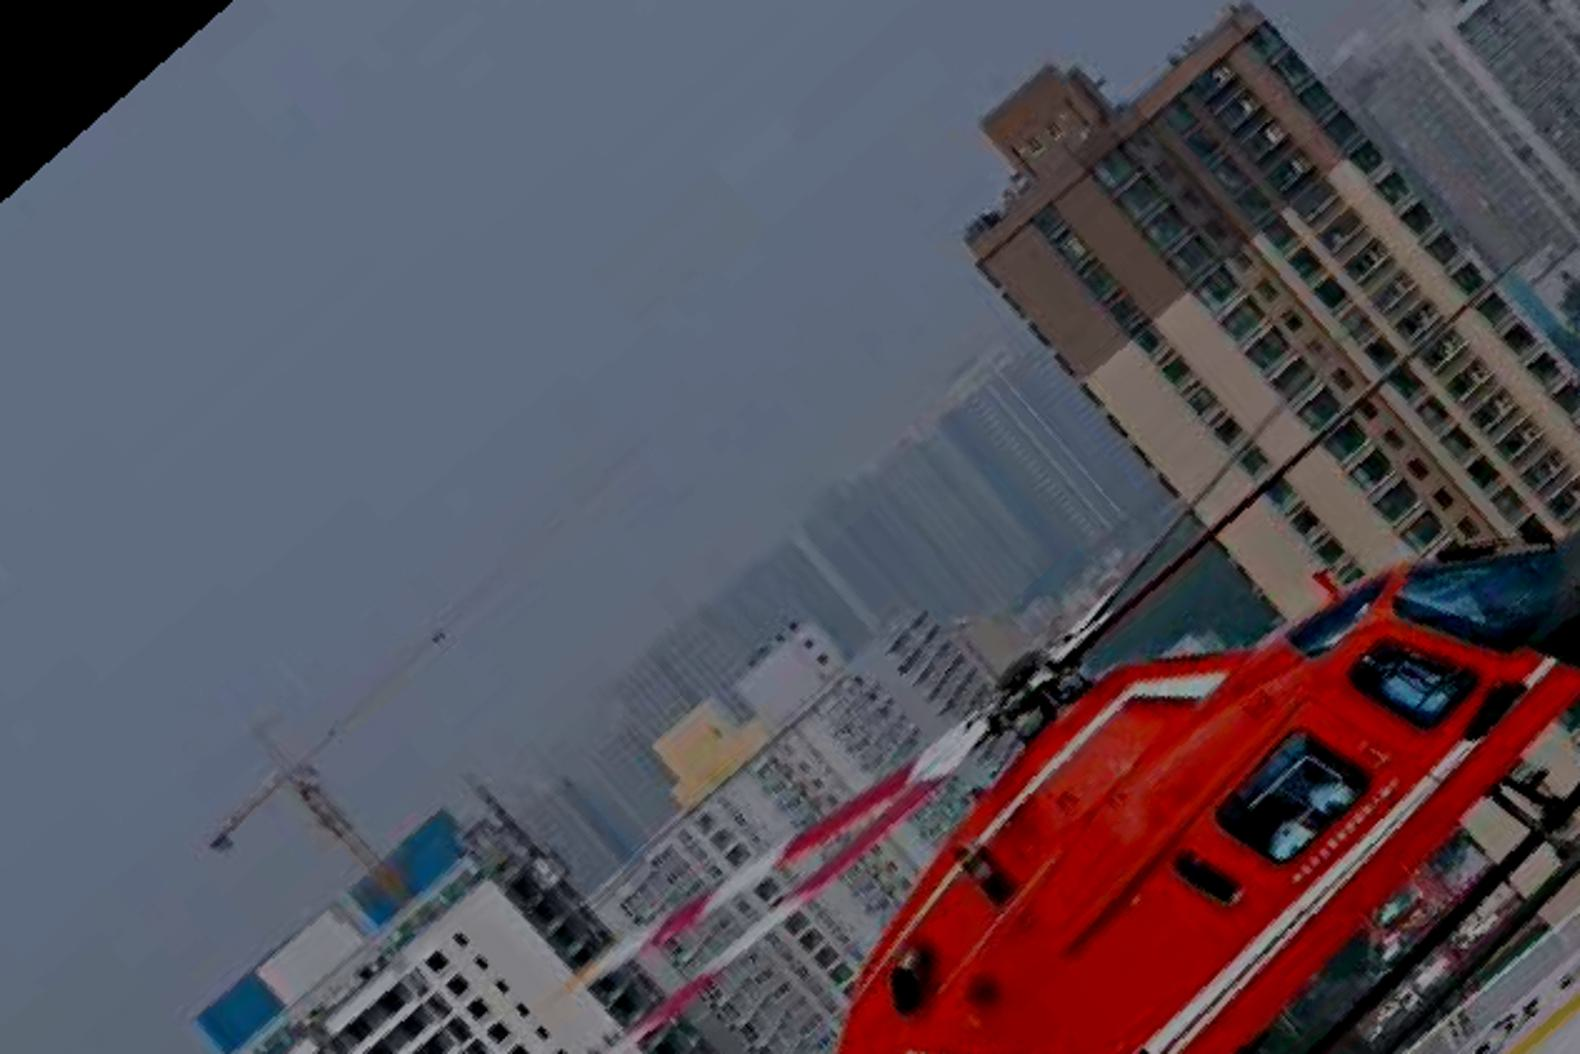Apron: (1496, 972, 1580, 1052)
